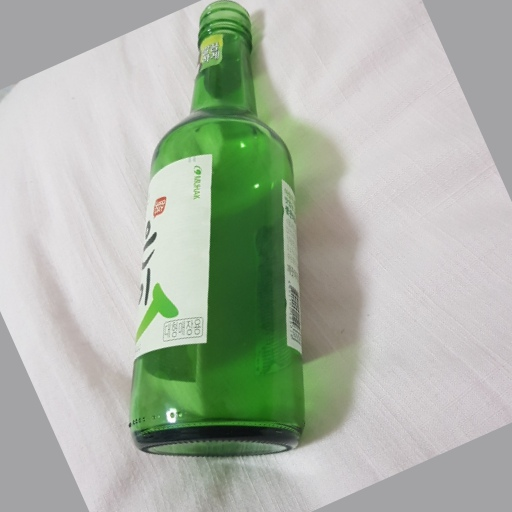Glass_0: (119, 1, 313, 460)
